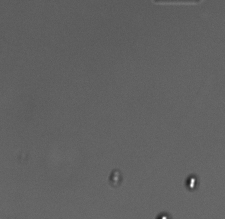Dead Cell: (106, 168, 124, 186)
Living Cell: (185, 173, 199, 191)
